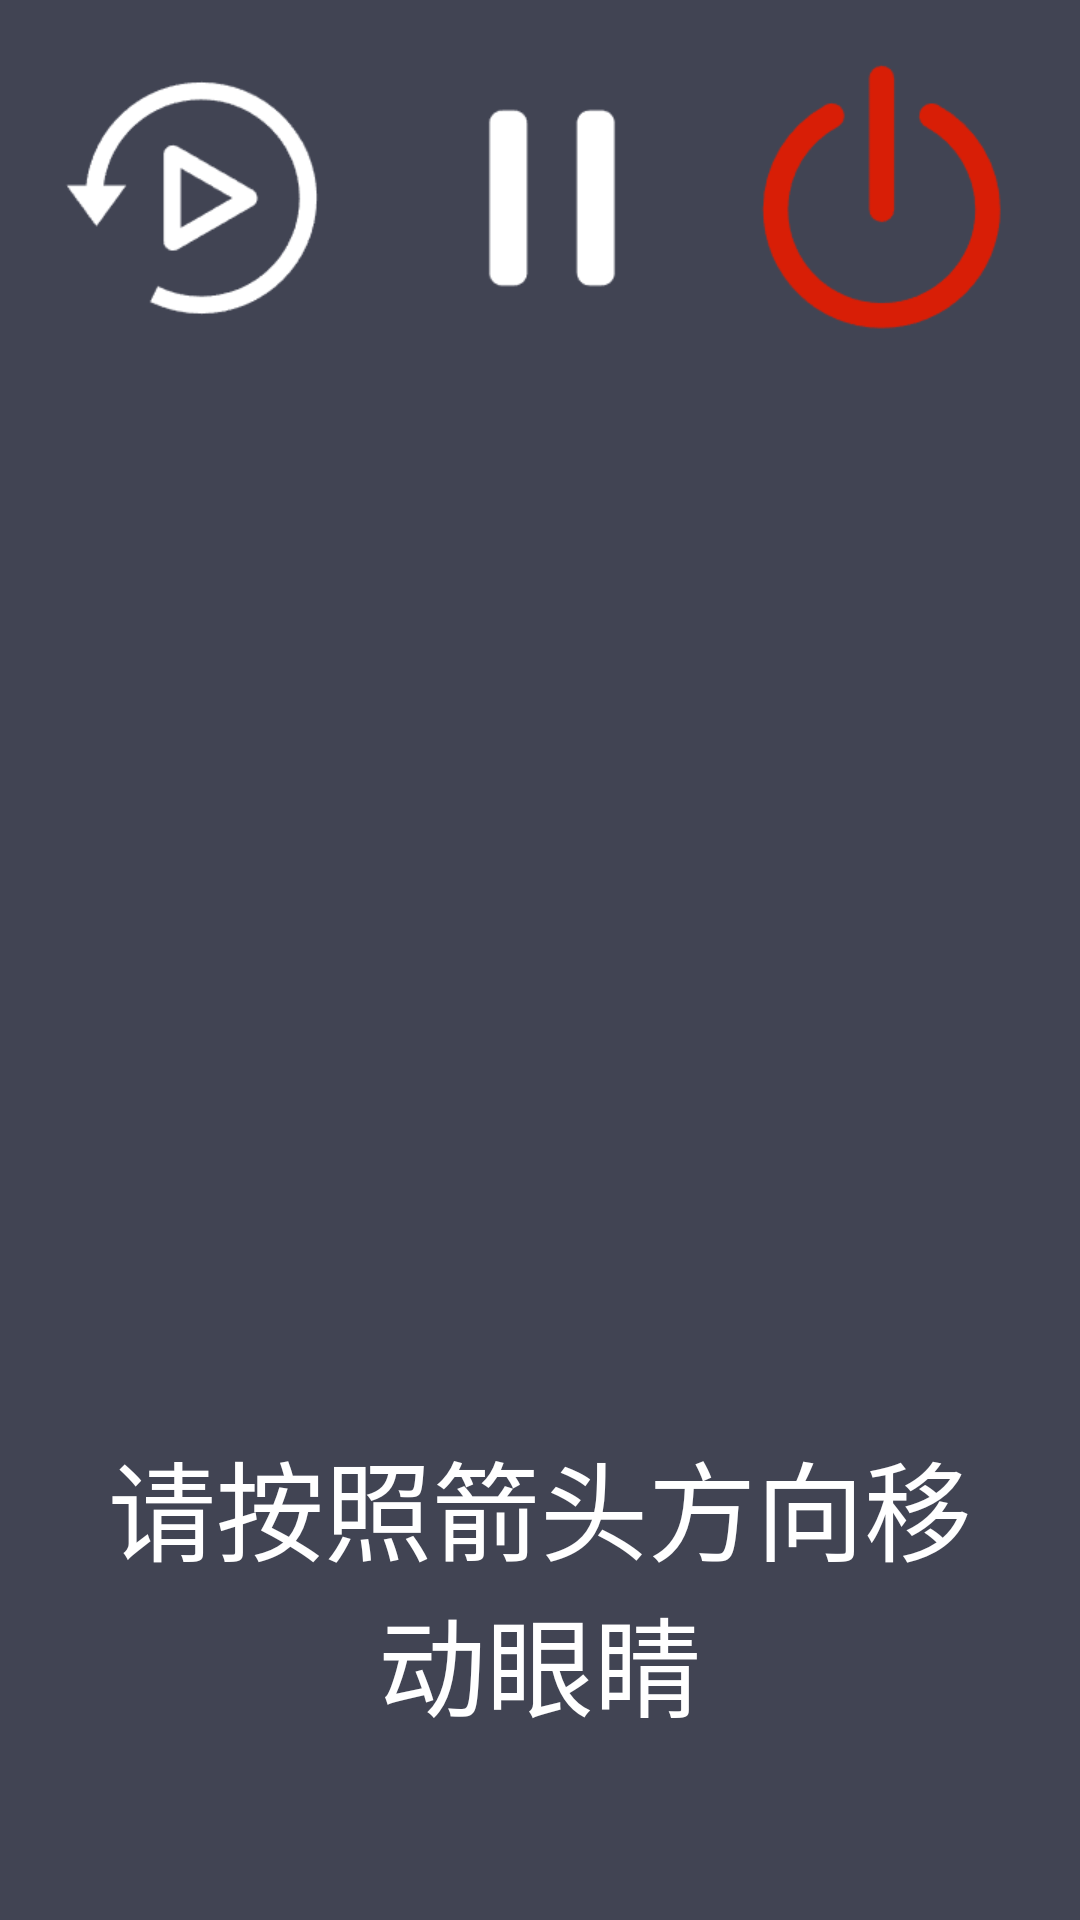

Icons on this 1080 × 1920 Android screen, each with its box as box=[x1, y1, x2, y2]:
exit: box=[762, 65, 1001, 329]
pause: box=[489, 109, 615, 287]
replay: box=[67, 82, 317, 314]
